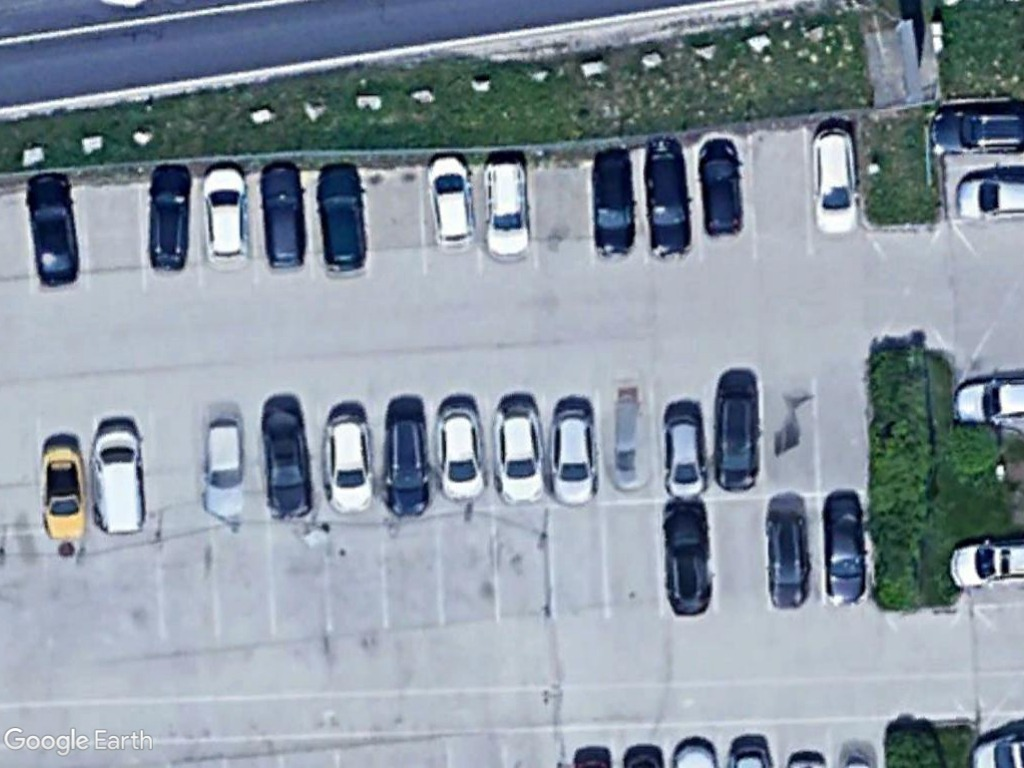car: (23, 171, 85, 290), (315, 164, 372, 277), (261, 404, 315, 523), (643, 141, 696, 260), (661, 502, 715, 618), (547, 403, 604, 509), (476, 157, 534, 261), (810, 121, 861, 238), (491, 400, 547, 506), (322, 411, 378, 515), (588, 150, 640, 261), (712, 381, 762, 494), (436, 402, 491, 503), (259, 162, 309, 272), (383, 411, 434, 518), (424, 151, 478, 251), (823, 493, 869, 609), (201, 163, 251, 269), (149, 165, 196, 276), (696, 138, 747, 240), (39, 440, 88, 544), (765, 505, 813, 609)
truck: (661, 411, 707, 505)
van: (89, 422, 150, 541)
